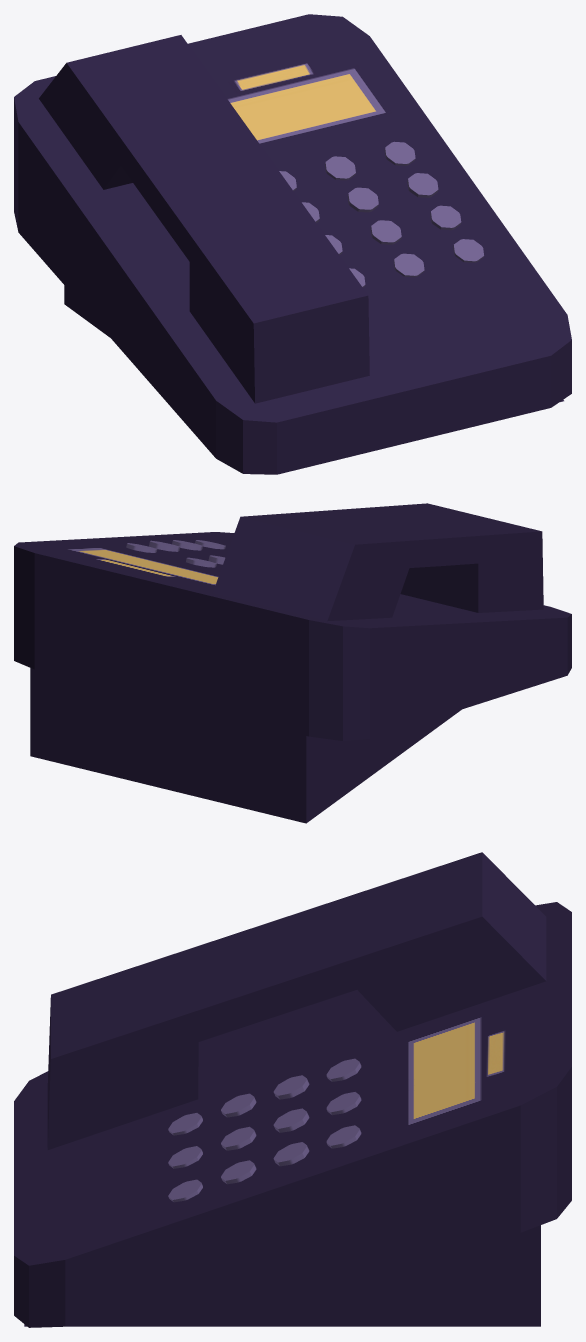
The model's file is telefono_con_texture.fbx.
3 views of the same model, one above another, from view 1: azimuth 30°, elevation 25°; view 2: azimuth 150°, elevation 25°; view 3: azimuth 270°, elevation 25° (orthographic). The views are drawn at different scales.
Visible parts, largest first — view 1: polySurface38, polySurface1; view 2: polySurface38, polySurface1; view 3: polySurface38, polySurface1.
Part boxes in pixels (left/top/right/bottom): polySurface38: left=14, top=14, right=571, bottom=474; polySurface1: left=39, top=35, right=369, bottom=403; polySurface38: left=14, top=532, right=571, bottom=823; polySurface1: left=213, top=503, right=543, bottom=621; polySurface38: left=14, top=902, right=571, bottom=1327; polySurface1: left=47, top=852, right=546, bottom=1149.
Bounding box in the file's own units: 3.79 × 2.74 × 4.52.
